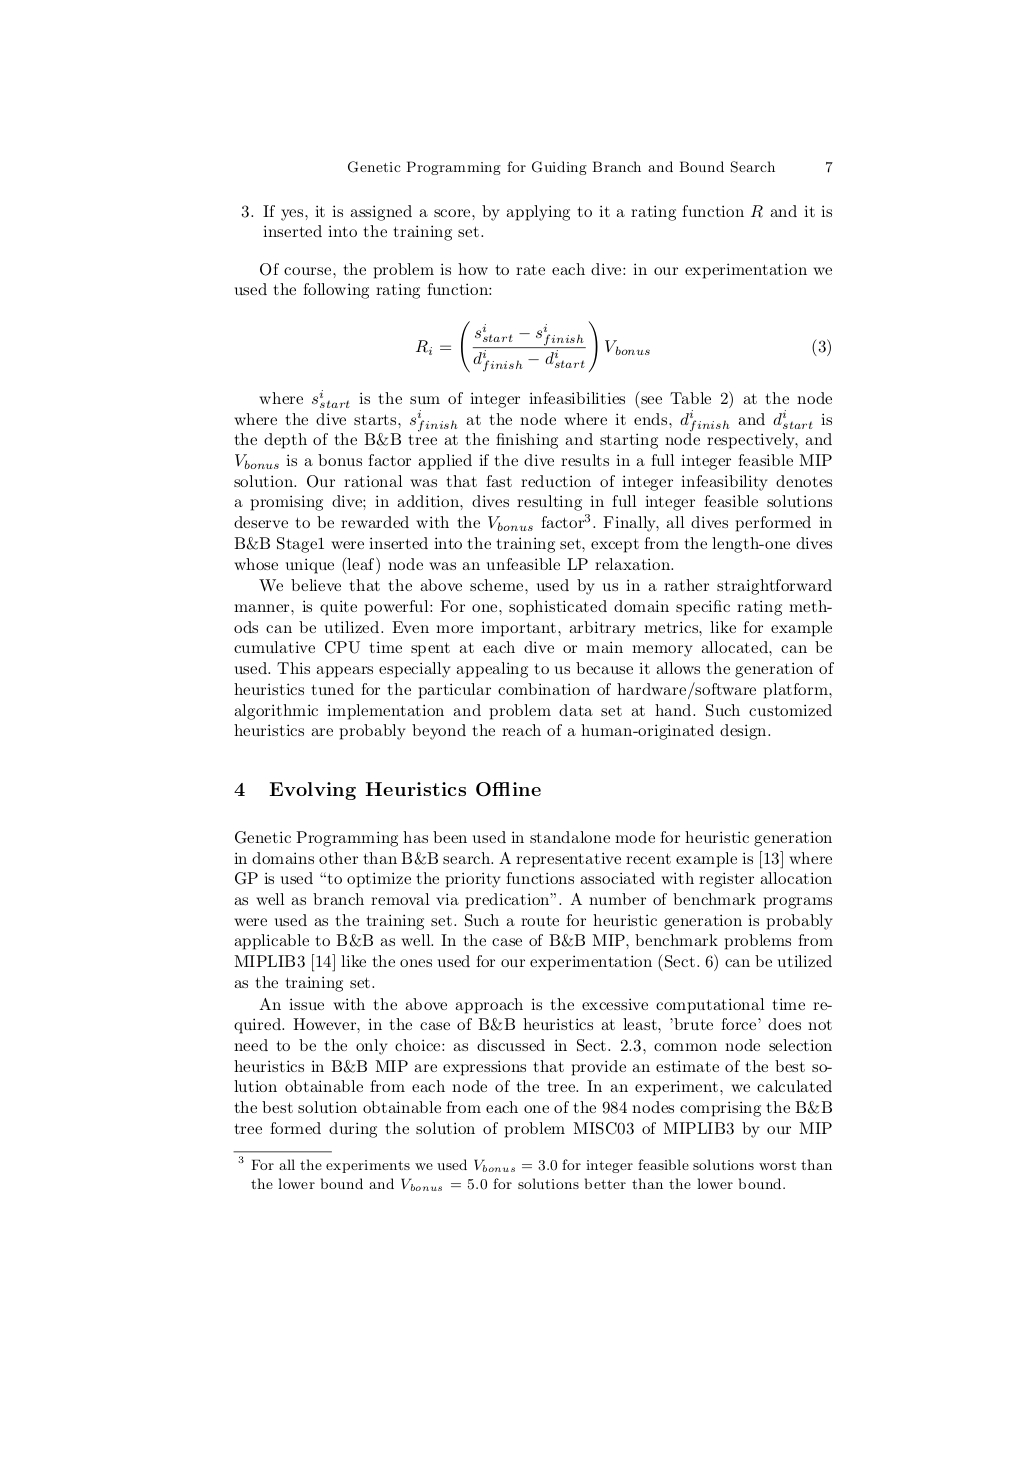formula: (415, 320, 830, 373)
